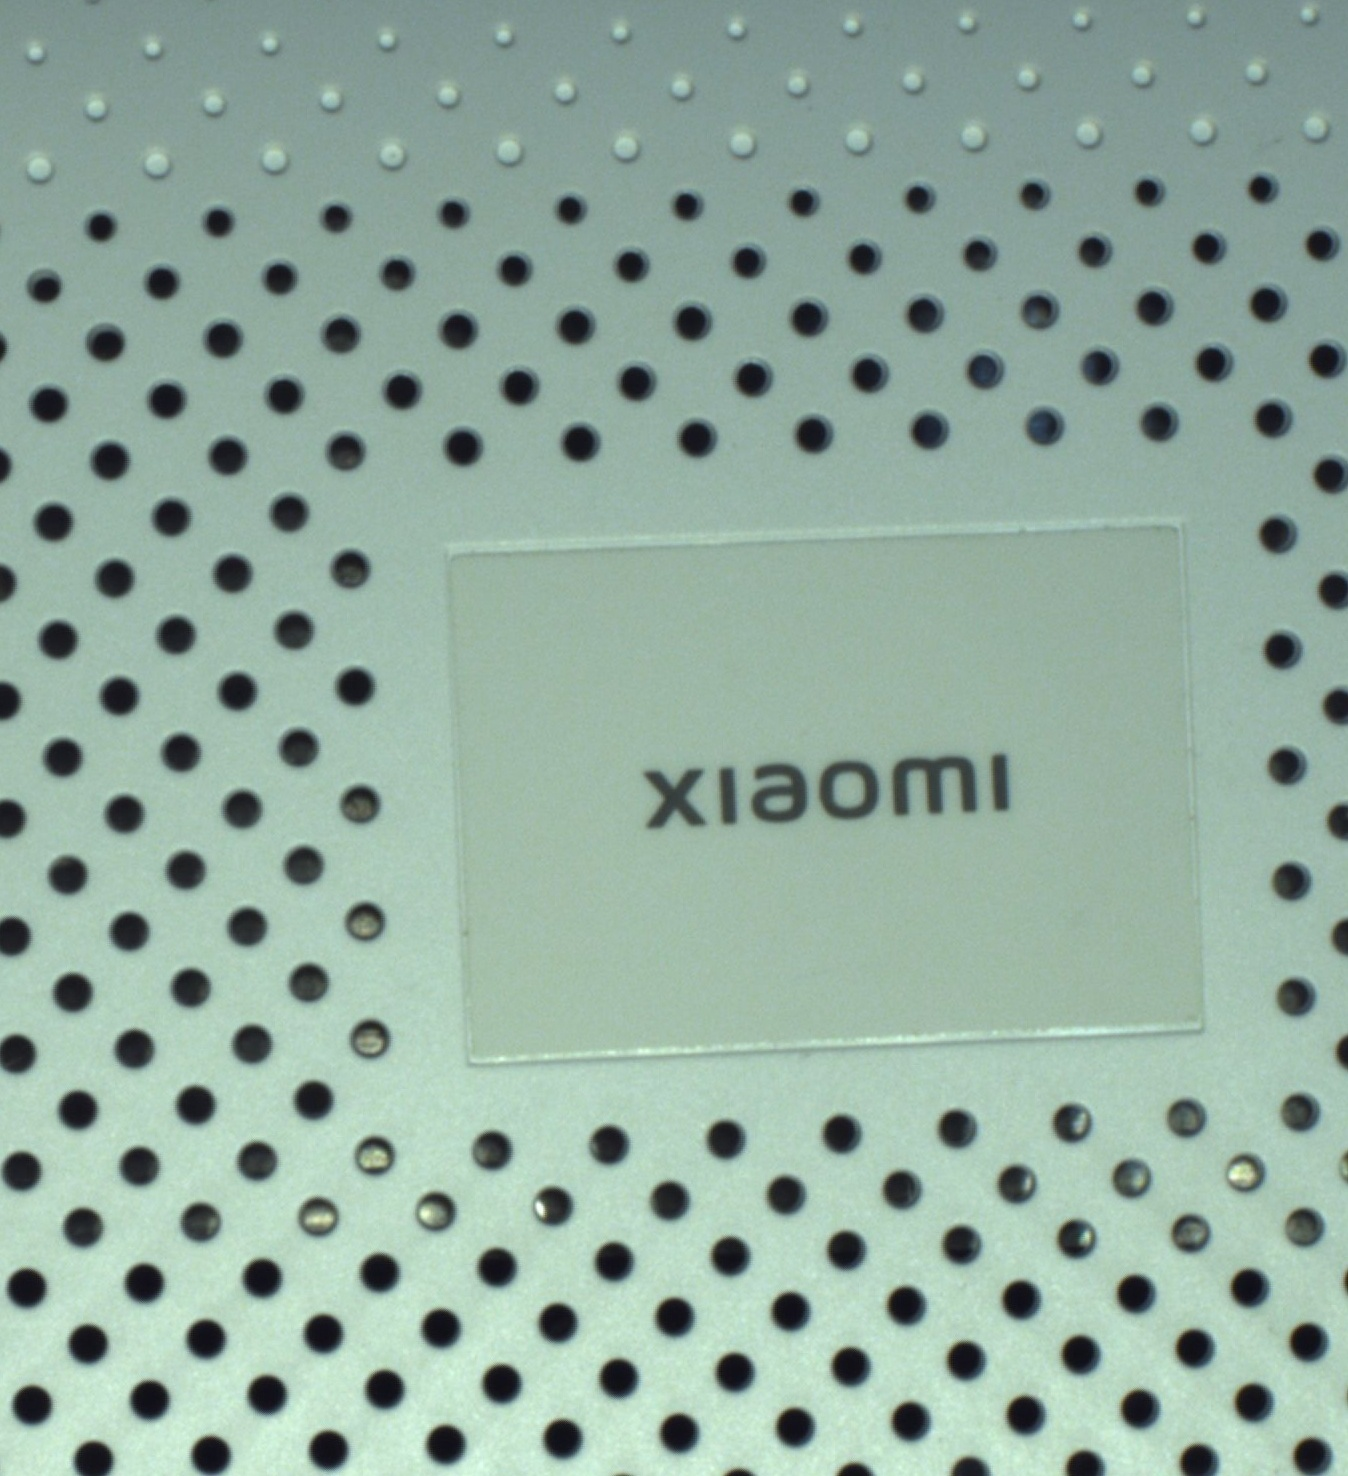MAB_OldUnicom: (635, 752, 1026, 841)
